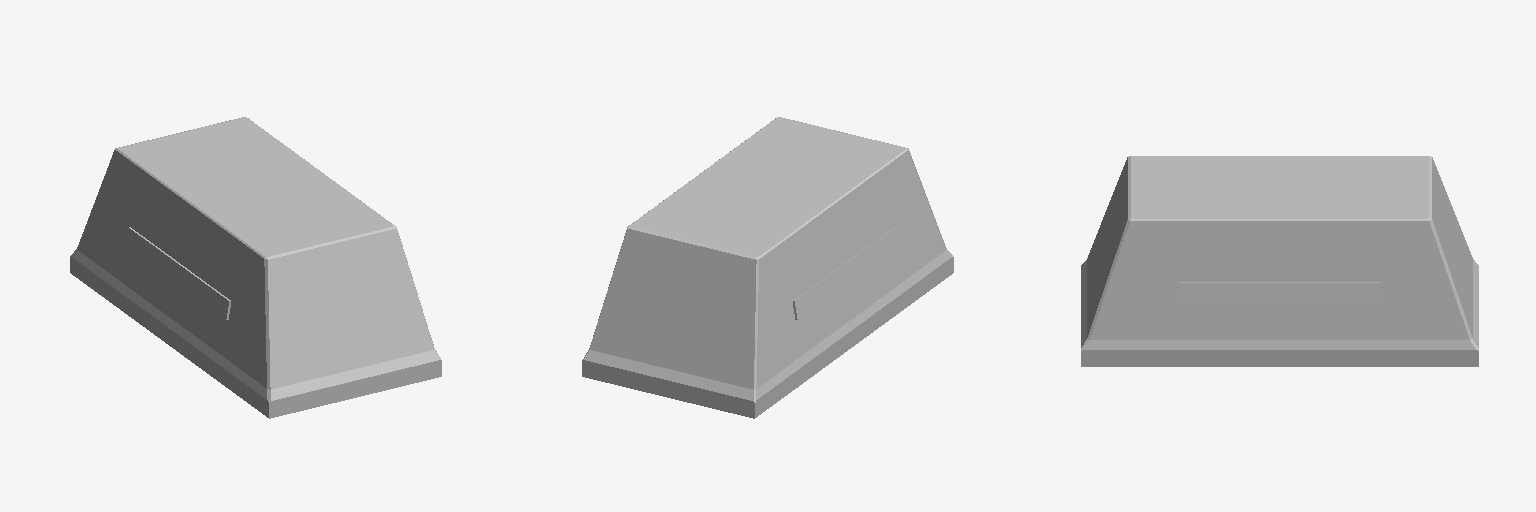
The model's file is ingot.obj.
The picture shows the model from 3 angles: view 1: azimuth 30°, elevation 25°; view 2: azimuth 150°, elevation 25°; view 3: azimuth 270°, elevation 25°; orthographic projection.
Parts seen in each view (by area): view 1: Cube_Cube.001; view 2: Cube_Cube.001; view 3: Cube_Cube.001.
Boxes of the visible parts, x1=… form: Cube_Cube.001: x1=70, y1=117, x2=441, y2=418; Cube_Cube.001: x1=582, y1=117, x2=953, y2=418; Cube_Cube.001: x1=1081, y1=156, x2=1478, y2=366.
Size of the model in its own units: 0.1969 by 0.15 by 0.3938.